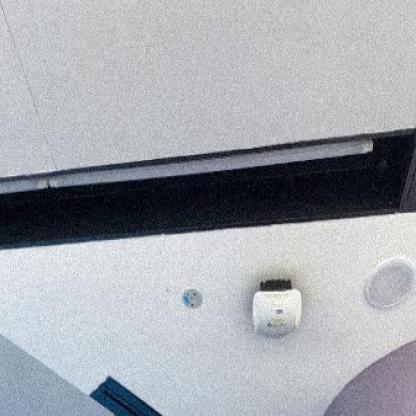light_off: (0, 54, 382, 235)
